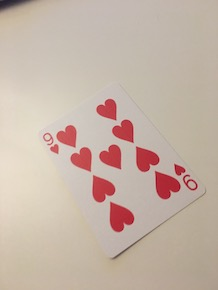NineOfHearts: (37, 80, 208, 260)
